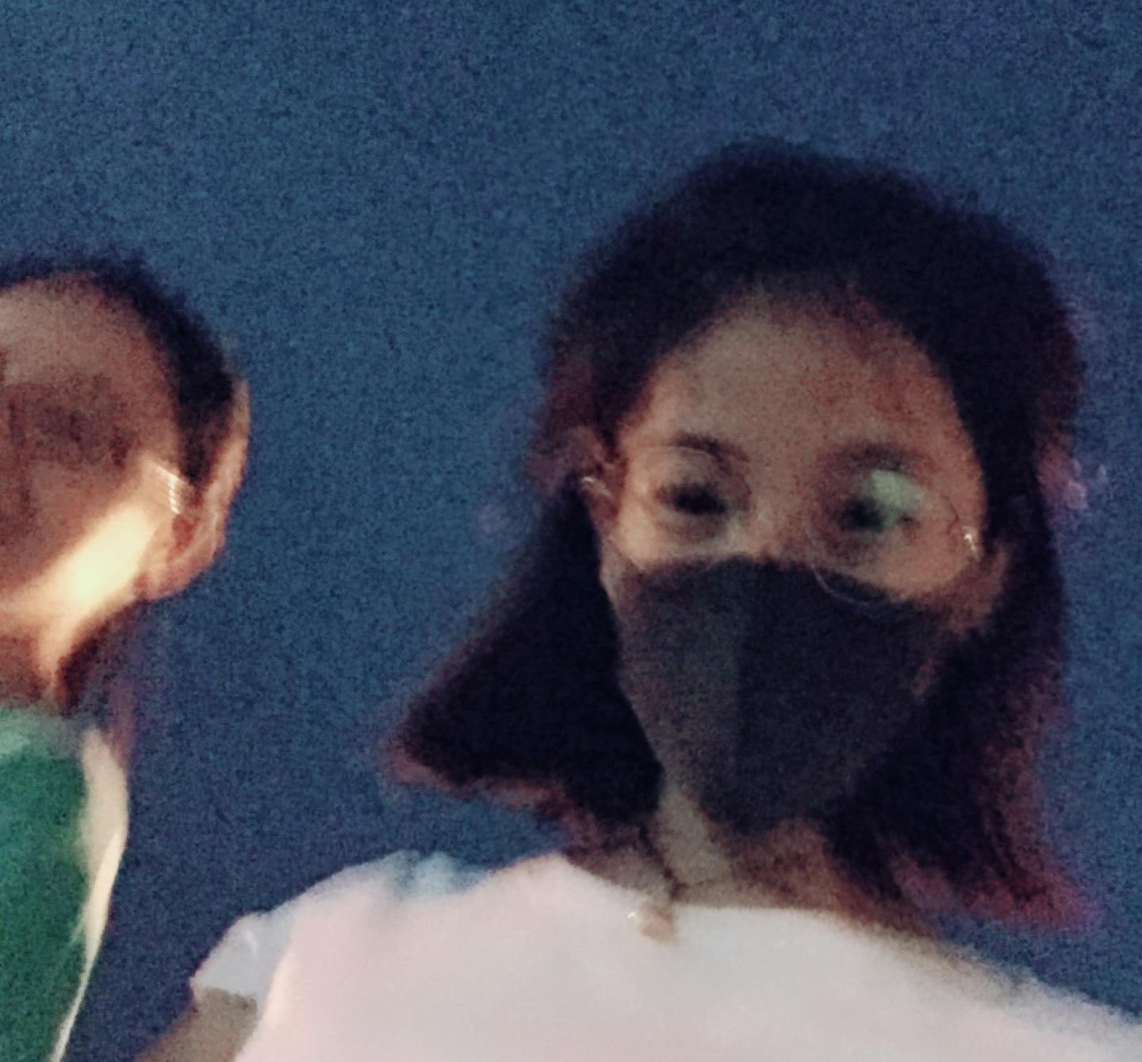NONE: (1, 328, 182, 601)
OK: (595, 405, 998, 808)
